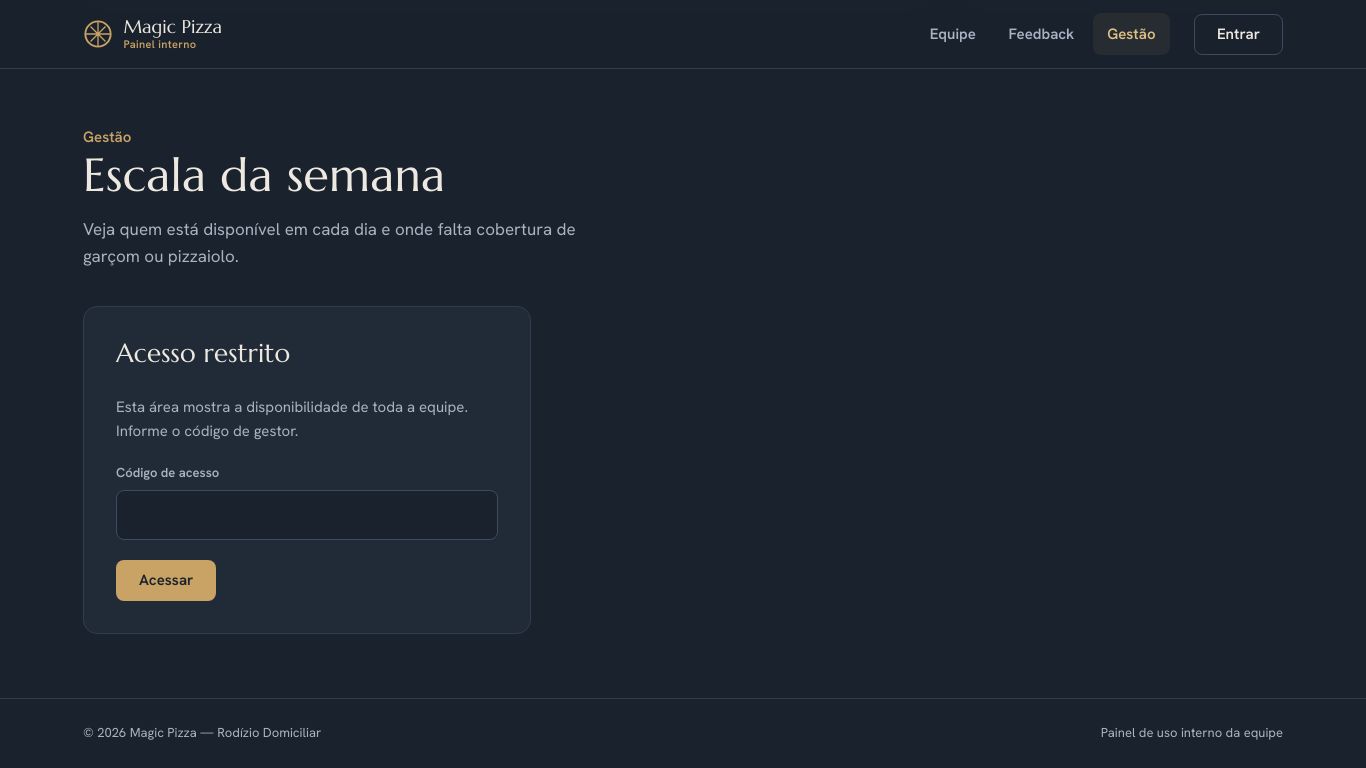
it: Aba Gestão › mostra estado vazio sem funcionários
(page scrolled)
Type "magic2026" into the password field labelled "Código de acesso" at {"x": 307, "y": 515}, box [116,490,498,540]
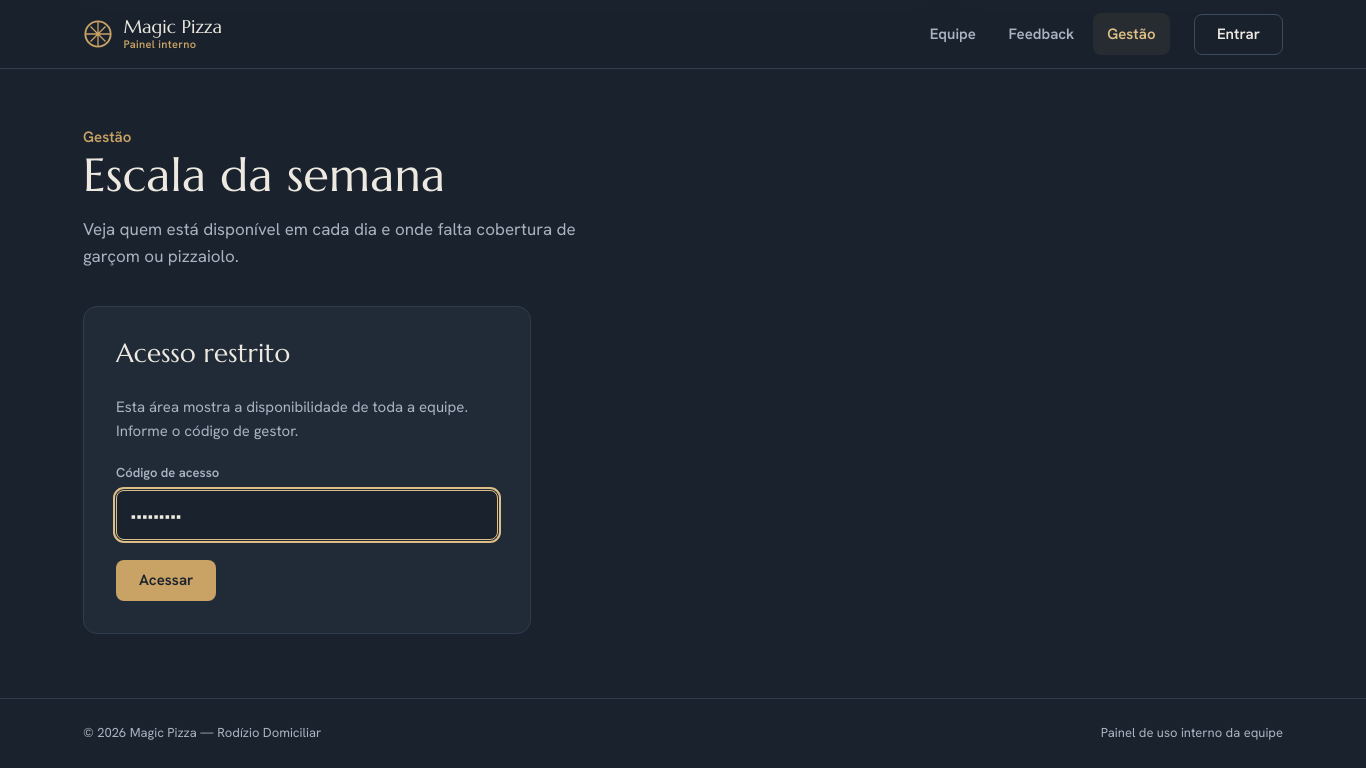
Click the button "Acessar" at {"x": 166, "y": 581}, box [116,560,216,601]
(page scrolled)
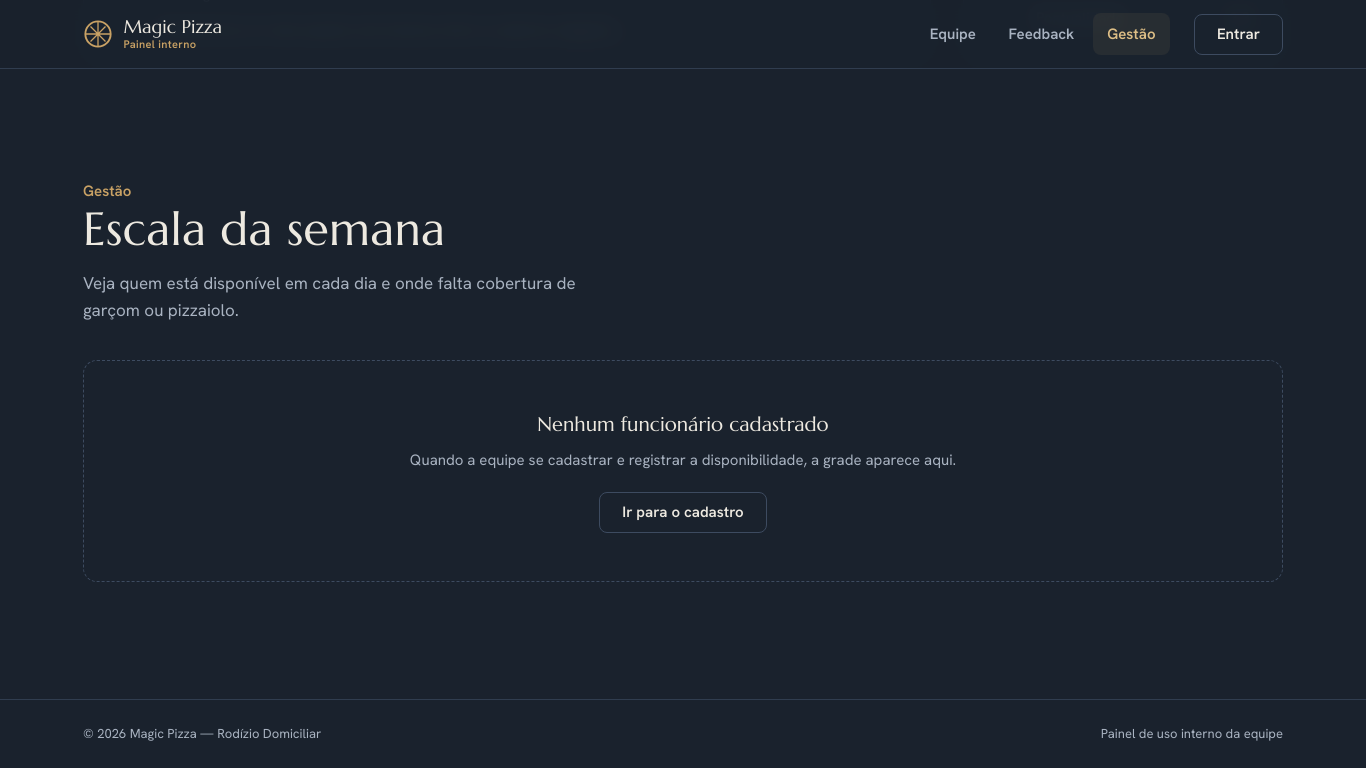
Expected: the text "Nenhum funcionário cadastrado" is shown, [537,412,829,437]
